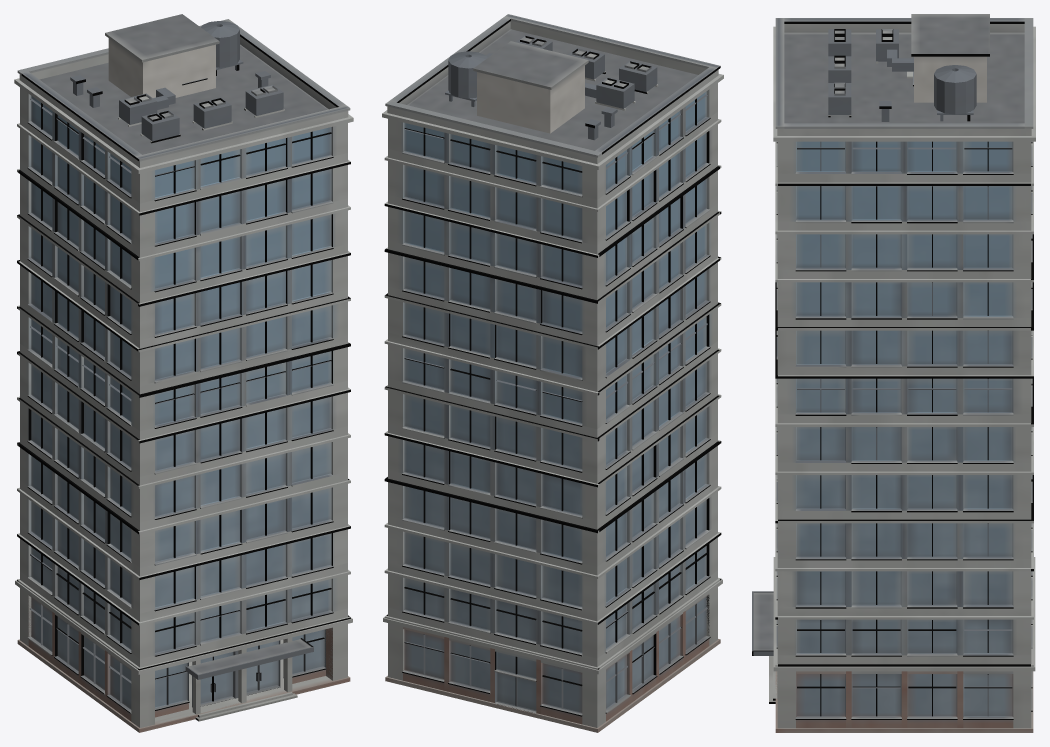
File: BldgOffice.fbx
3 renders of one model, left to right at view 1: azimuth 30°, elevation 25°; view 2: azimuth 150°, elevation 25°; view 3: azimuth 270°, elevation 25°, orthographic. The views are drawn at different scales.
Visible parts, largest first — view 1: BldgOffice; view 2: BldgOffice; view 3: BldgOffice.
Boxes of the visible parts, bbox=[...] form: BldgOffice: bbox=[14, 14, 353, 732]; BldgOffice: bbox=[382, 14, 723, 732]; BldgOffice: bbox=[752, 14, 1035, 732].
Bounding box in the file's own units: 1656 × 4483 × 1789.
Materials: 1 (1 with a texture image).
